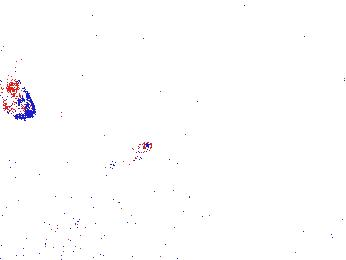X-ray fish: (279, 17, 329, 51), (1, 81, 38, 121)
red belly glassfish: (112, 137, 153, 167), (325, 76, 346, 99), (322, 218, 340, 240)
